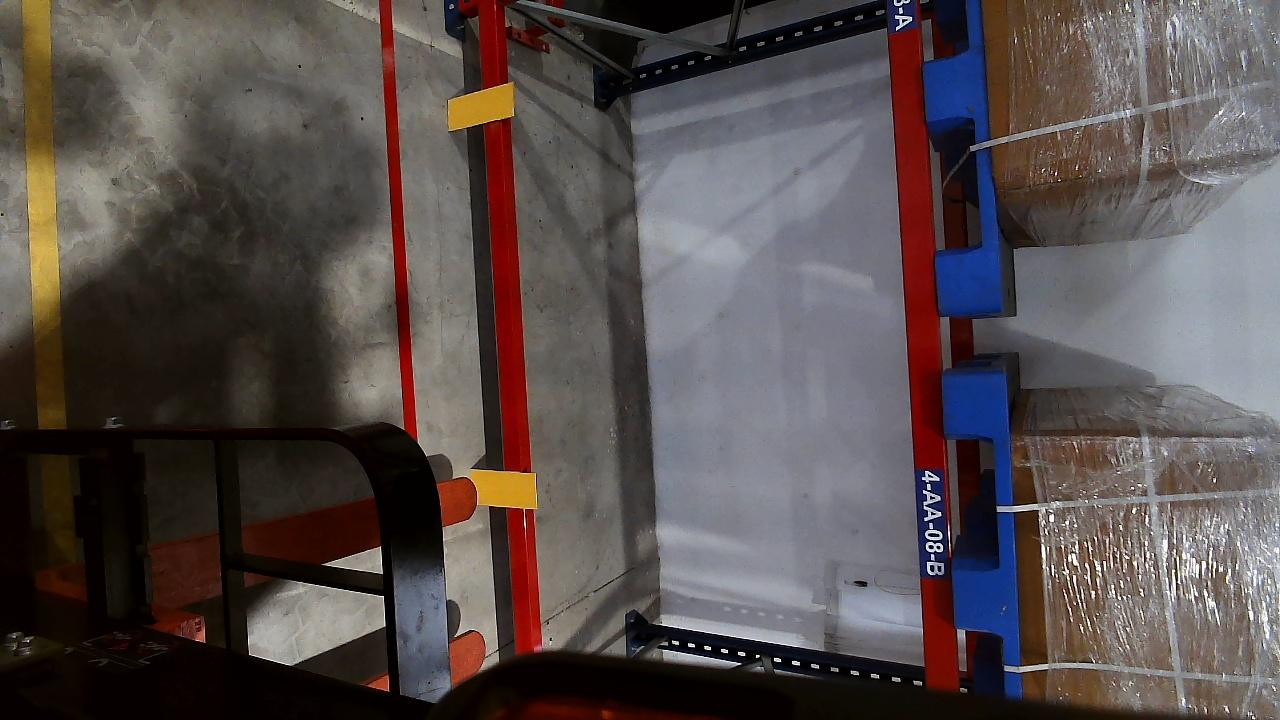h_rack: (883, 0, 953, 611), (475, 62, 532, 639)
orange_strip: (445, 83, 515, 129), (467, 469, 537, 509)
red_line: (378, 0, 418, 440)
small_pallet: (916, 0, 1007, 309), (943, 374, 1025, 689)
yellow_line: (18, 0, 64, 425)
